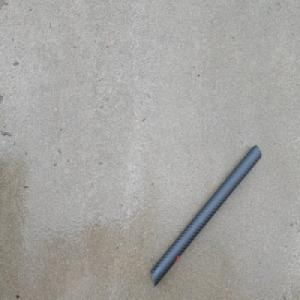LuggagePart: (149, 143, 262, 289)
